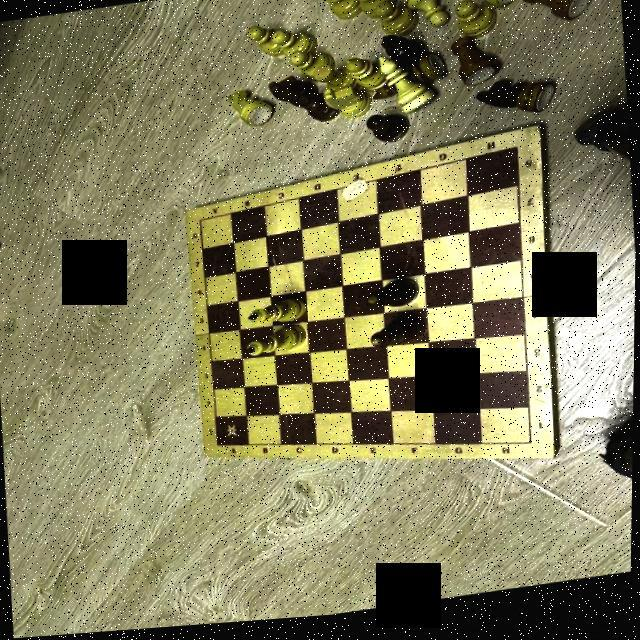chess-table-corners: (524, 442, 538, 461), (510, 150, 522, 162), (195, 220, 205, 228), (213, 444, 221, 452)
